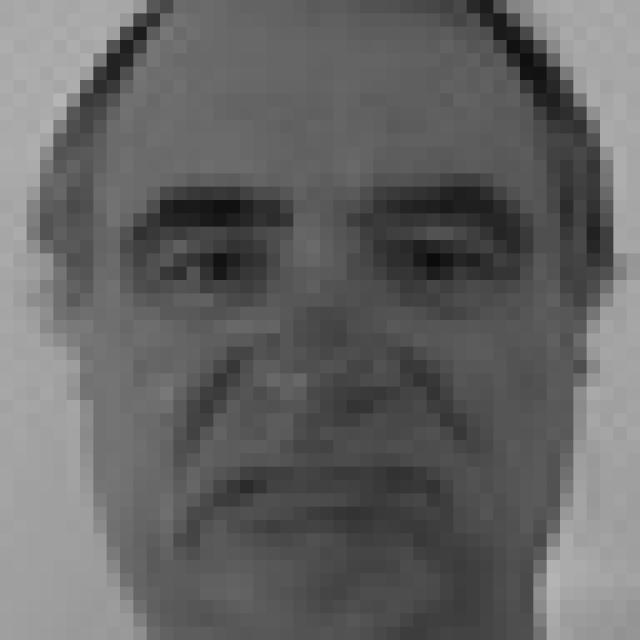disgust: (121, 184, 532, 560)
